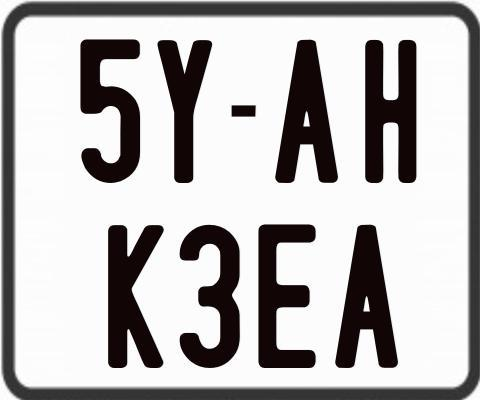3: (178, 224, 242, 373)
5: (79, 36, 139, 186)
A: (334, 224, 403, 368), (275, 37, 339, 183)
E: (256, 222, 315, 368)
H: (365, 40, 417, 186)
K: (106, 225, 167, 374)
Y: (156, 39, 214, 182)
